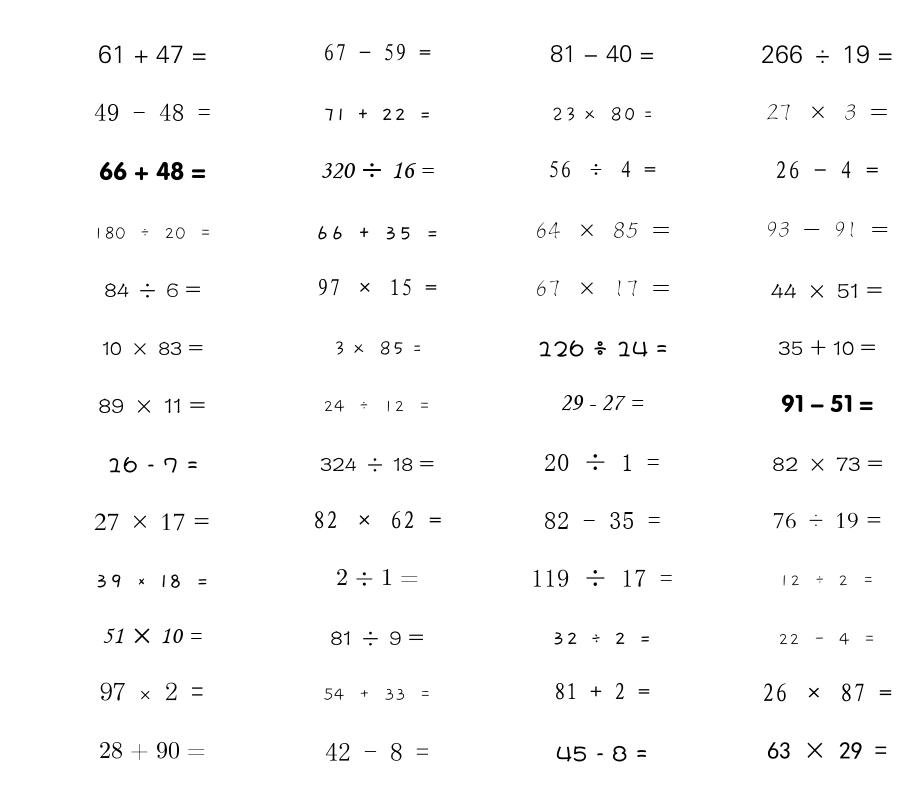MQ: (531, 569, 673, 587), (761, 45, 893, 64), (762, 683, 892, 702), (535, 221, 670, 239), (313, 511, 442, 529), (535, 280, 670, 297), (537, 340, 668, 357), (317, 278, 437, 296), (99, 161, 206, 181), (94, 103, 211, 121), (766, 221, 889, 238), (544, 453, 660, 471), (94, 513, 210, 531), (766, 104, 888, 121), (98, 45, 207, 64), (767, 742, 887, 759), (99, 741, 206, 760), (544, 512, 661, 529), (100, 682, 204, 701), (323, 43, 431, 61), (548, 160, 656, 178), (320, 162, 434, 179), (550, 45, 655, 63), (775, 161, 879, 179), (325, 743, 429, 761), (773, 512, 882, 529), (771, 283, 883, 299), (781, 394, 873, 413), (315, 226, 439, 240), (554, 682, 650, 700), (320, 457, 434, 472), (93, 226, 212, 240), (778, 339, 876, 356), (98, 398, 206, 413), (102, 628, 202, 644), (95, 574, 209, 588), (556, 745, 648, 762), (772, 457, 883, 471), (107, 456, 198, 473), (551, 107, 653, 122), (336, 568, 419, 586), (104, 283, 201, 298), (323, 108, 432, 121), (323, 688, 432, 701), (102, 341, 203, 355), (330, 631, 424, 646), (323, 400, 431, 413), (560, 395, 644, 411), (333, 341, 422, 356), (552, 632, 652, 645), (778, 633, 876, 646), (779, 575, 875, 587)
